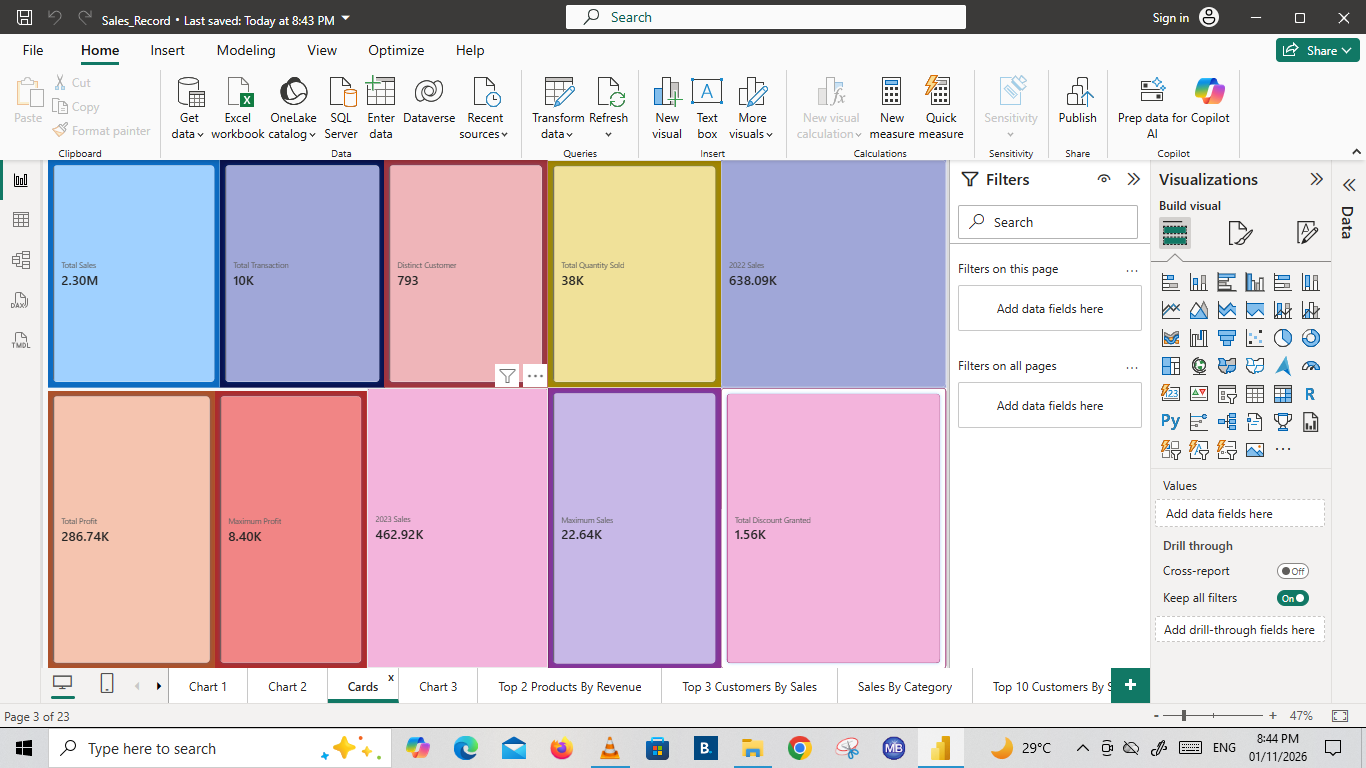

Layout of this report page (visuals, bound fields, positions):
{"tool":"powerbi","page":{"name":"Cards","canvas":[1920,1080],"ordinal":2},"visuals":[{"type":"cardVisual","fields":{"Data":["Measure Table.Total Sales"]},"box":[10.1,0,365.4,483.8],"z":0},{"type":"cardVisual","fields":{"Data":["Measure Table.Total Profit"]},"box":[10.1,491.3,355.3,589.6],"z":1000},{"type":"cardVisual","fields":{"Data":["Measure Table.Total Quantity Sold"]},"box":[1073.4,2.5,367.9,481.3],"z":2000},{"type":"cardVisual","fields":{"Data":["Measure Table.Maximum Profit"]},"box":[365.4,491.3,322.5,589.6],"z":3000},{"type":"cardVisual","fields":{"Data":["Measure Table.Maximum Sales"]},"box":[1073.4,483.8,367.9,597.2],"z":4000},{"type":"cardVisual","fields":{"Data":["Measure Table.Total Transaction"]},"box":[375.4,0,350.2,483.8],"z":5000},{"type":"cardVisual","fields":{"Data":["Measure Table.Distinct Customer"]},"box":[725.7,0,347.7,483.8],"z":6000},{"type":"cardVisual","fields":{"Data":["Measure Table.Total Discount Granted"]},"box":[1441.3,483.8,478.7,597.2],"z":6001},{"type":"cardVisual","fields":{"Data":["Measure Table.2023 Sales"]},"box":[687.9,483.8,385.5,597.2],"z":6002},{"type":"cardVisual","fields":{"Data":["Measure Table.2022 Sales"]},"box":[1441.3,0,478.7,483.8],"z":6003}]}

Visuals, with their boxes on the page's 1920x1080 design canvas (x1, y1, x2, y2). These are canvas units, not pixel positions in the 1366x768 screenshot, which may show the page scaled, cropped or inside an application window:
cardVisual - Measure Table.Total Sales: x1=10, y1=0, x2=376, y2=484
cardVisual - Measure Table.Total Profit: x1=10, y1=491, x2=365, y2=1081
cardVisual - Measure Table.Total Quantity Sold: x1=1073, y1=2, x2=1441, y2=484
cardVisual - Measure Table.Maximum Profit: x1=365, y1=491, x2=688, y2=1081
cardVisual - Measure Table.Maximum Sales: x1=1073, y1=484, x2=1441, y2=1081
cardVisual - Measure Table.Total Transaction: x1=375, y1=0, x2=726, y2=484
cardVisual - Measure Table.Distinct Customer: x1=726, y1=0, x2=1073, y2=484
cardVisual - Measure Table.Total Discount Granted: x1=1441, y1=484, x2=1920, y2=1081
cardVisual - Measure Table.2023 Sales: x1=688, y1=484, x2=1073, y2=1081
cardVisual - Measure Table.2022 Sales: x1=1441, y1=0, x2=1920, y2=484
